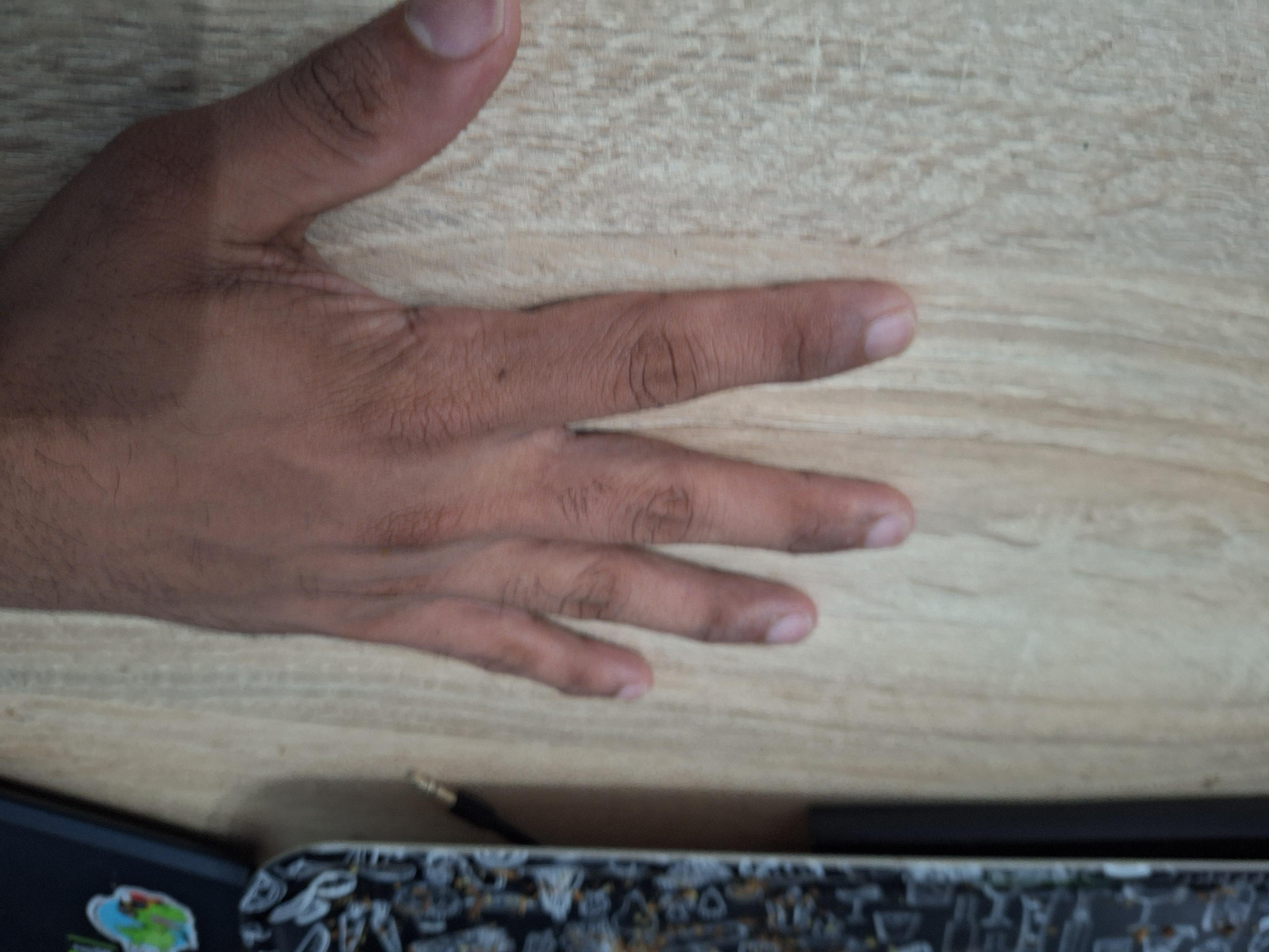Fingernail: (866, 308, 913, 363), (865, 513, 911, 549), (767, 614, 811, 645), (618, 684, 644, 706)
